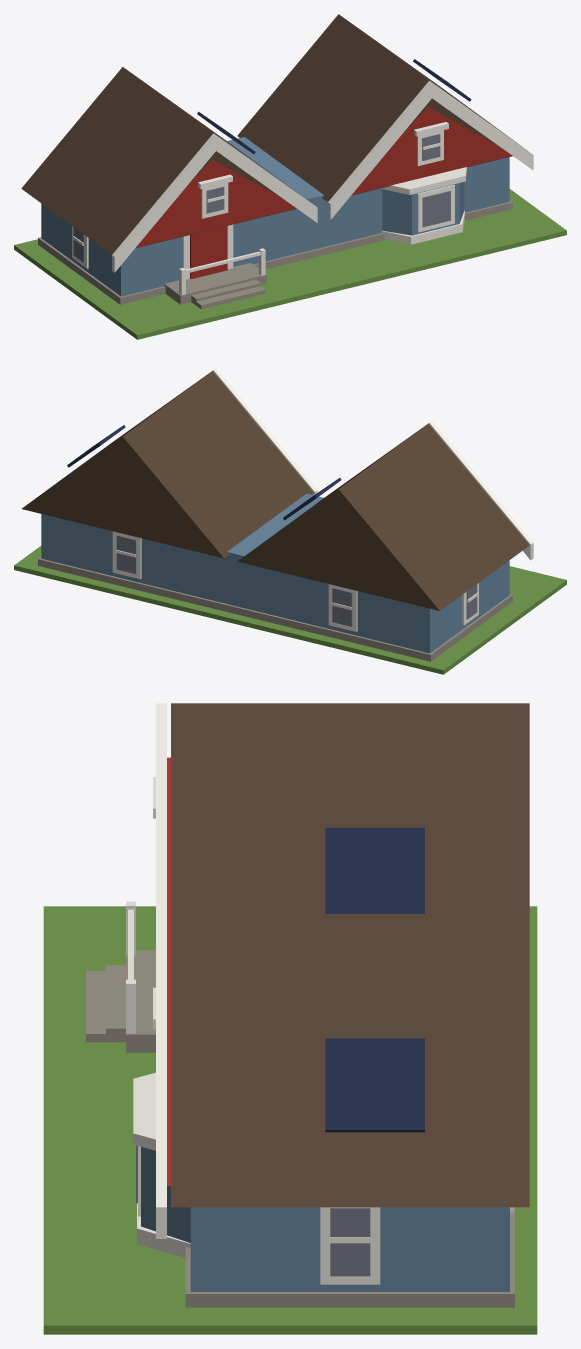
The model's file is house-2x1-1f-victorian-a-solar.glb.
The picture shows the model from 3 angles, top to bottom: view 1: azimuth 30°, elevation 25°; view 2: azimuth 150°, elevation 25°; view 3: azimuth 270°, elevation 25°; orthographic projection. The views are drawn at different scales.
Visible parts, largest first — view 1: house-2x1-1f-victorian-a-solar; view 2: house-2x1-1f-victorian-a-solar; view 3: house-2x1-1f-victorian-a-solar.
Boxes of the visible parts, box(x1,y1,x2,y2) form: house-2x1-1f-victorian-a-solar: box(14, 14, 566, 339); house-2x1-1f-victorian-a-solar: box(14, 368, 566, 674); house-2x1-1f-victorian-a-solar: box(43, 703, 537, 1334).
Bounding box in the file's own units: 1.99 × 0.7 × 0.99.
1 material, 1 textured.
